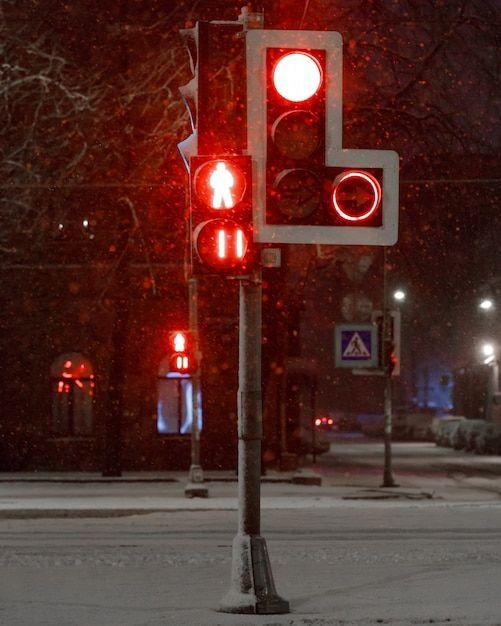red: (237, 28, 335, 227)
